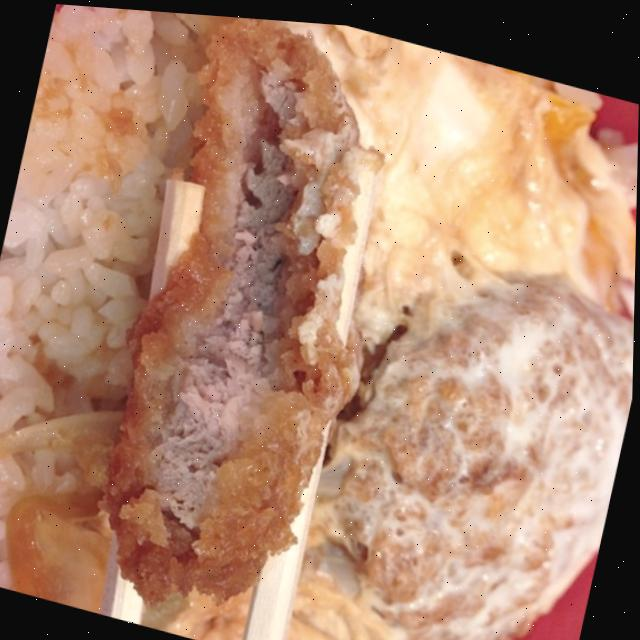牛肉菜式: (78, 5, 640, 640)
